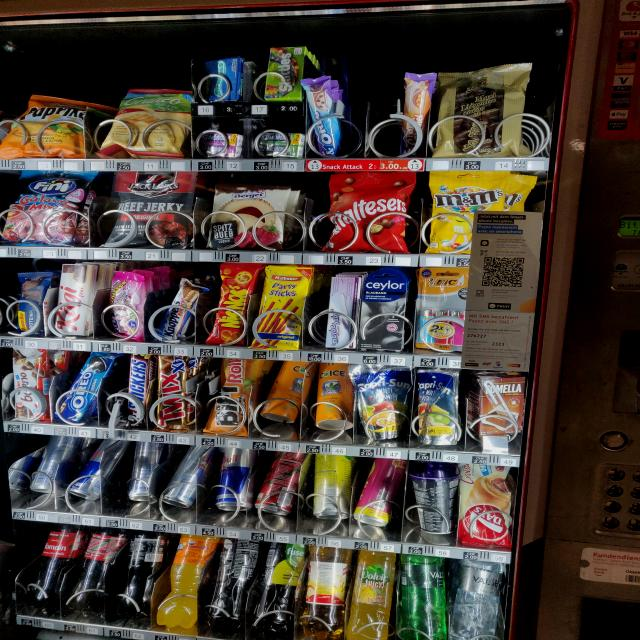7days_croissantschoko_packung_80_1_0000000000003: (457, 463, 513, 547)
airwaves_menthoneucalyptus_riegel_14_1_50173167: (199, 58, 246, 102)
bifi_roll__50__4251097402635: (202, 357, 255, 436)
bueno___43__4008400320328: (14, 346, 52, 421)
c-swiss_dosenabisicetea__33__9120025930135: (264, 360, 317, 425), (313, 368, 356, 431)
caferoyal_classicmacchiato__33__7617014164487: (410, 467, 465, 538)
caprisun_multivitamin__20__4000177605004: (349, 366, 418, 438), (407, 371, 465, 445)
coke__dose_33__54491472: (253, 452, 306, 514)
coke__flasche_50__54491472: (22, 526, 82, 605), (71, 530, 124, 612)
coke_zero_flasche_50__5449000131836: (113, 534, 168, 618)
comella_schokodrink__33__7613100037253: (468, 377, 528, 438)
fanta___50__40822938: (154, 537, 218, 626)
fini_galaxymix_packung_100_1_8410525150364: (7, 172, 92, 246)
fini_jellykisses_packung_80_1_8410525116704: (106, 275, 150, 344)
fuse_lemon__50__5449000235947: (246, 542, 306, 635)
fuse_lemon_dose_33__5449000235947: (306, 456, 351, 522)
fuse_peach__50__5449000236623: (205, 540, 261, 626)
jacklinks_beefjerkyorginal__25__4047751730219: (104, 171, 200, 248)
jlbrichard_gauffrechoko__90__5410495002079: (428, 67, 536, 159)
kagi___50__7610046000259: (53, 259, 98, 338)
knoppers_riegel____4035800488808: (156, 283, 204, 345)
lorenz_nicnacs__40__4018077798818: (204, 265, 260, 345)
malburner_partysticks__40__7610200279682: (256, 266, 311, 351)
maltesers___100__5000159023061: (325, 171, 417, 253)
mnms_gelb__45__40111445: (430, 169, 520, 257)
oreo___66__84100733: (61, 352, 112, 424)
powerbar_proteinplusschoko__55__4029679520028: (14, 268, 55, 335)
ramseier_schorle__50__7610057012456: (299, 548, 352, 640)
redbull___33__90162909: (26, 432, 80, 495), (71, 437, 123, 501), (215, 446, 254, 514), (128, 436, 166, 503)
redbull_light__33__90162800: (166, 448, 209, 506)
skittles_sour_riegel_51_1_0000000000004: (259, 43, 310, 101)
snickers___50__5000159461122: (122, 358, 152, 427)
stimorol_spearmint_riegel_14_1_0000000000005: (260, 133, 305, 158)
stimorol_wildcherry_riegel_14_1_57060330: (197, 130, 244, 156)
tiki_himbeer_brause__50__00000000009342: (349, 459, 408, 528)
twix___50__5000159459228: (153, 354, 193, 432)
valser_classic__50__76404160: (400, 555, 448, 640)
valser_still__50__7610335002575: (454, 559, 504, 640)
volvic_pinapple__50__305764335648: (349, 552, 402, 640)
zweifel_graneochilli__100__7610095184009: (100, 82, 194, 160)
zweifel_paprika__90__7610095013002: (2, 95, 102, 158)
